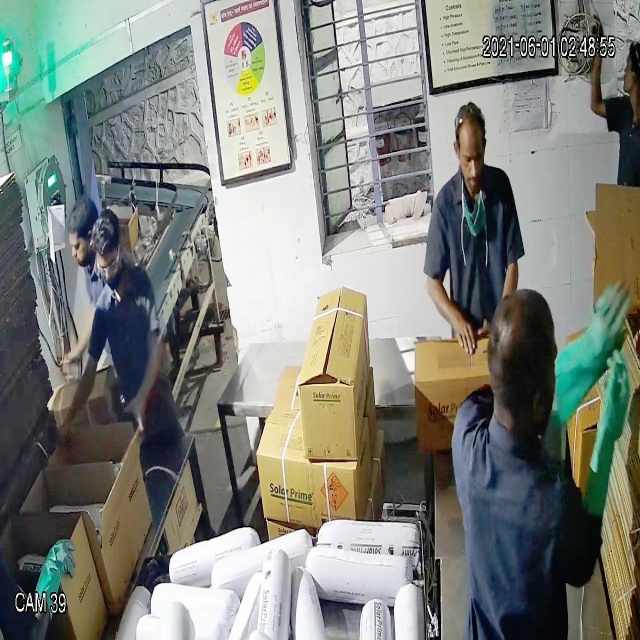Gafas: (94, 245, 122, 284)
Sin_gafas: (448, 137, 496, 176)
